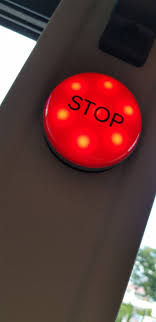bell: (37, 69, 148, 177)
